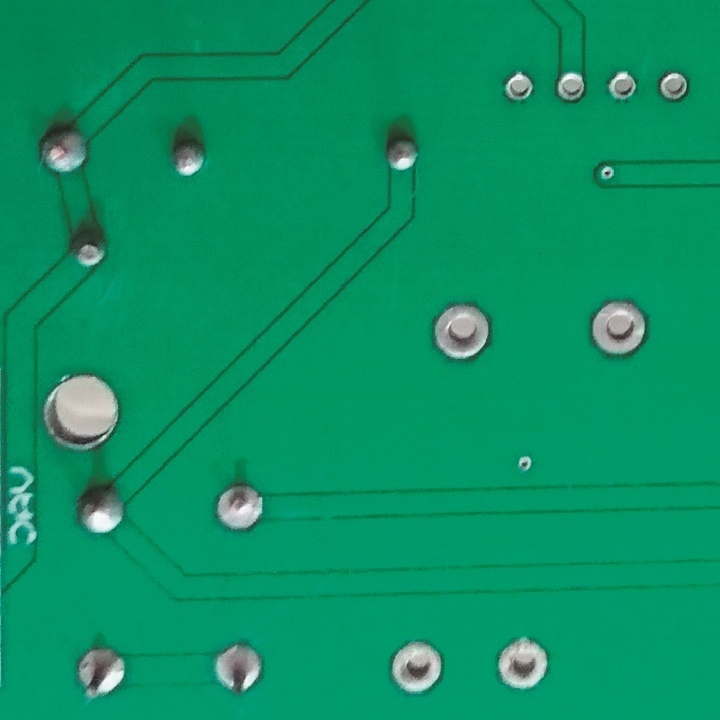F: (69, 640, 137, 705), (430, 298, 496, 364), (209, 638, 269, 702), (385, 636, 445, 700), (588, 298, 652, 357), (492, 635, 554, 693), (211, 478, 268, 539), (655, 66, 693, 104), (500, 69, 539, 105), (603, 69, 641, 104), (552, 72, 590, 103)
